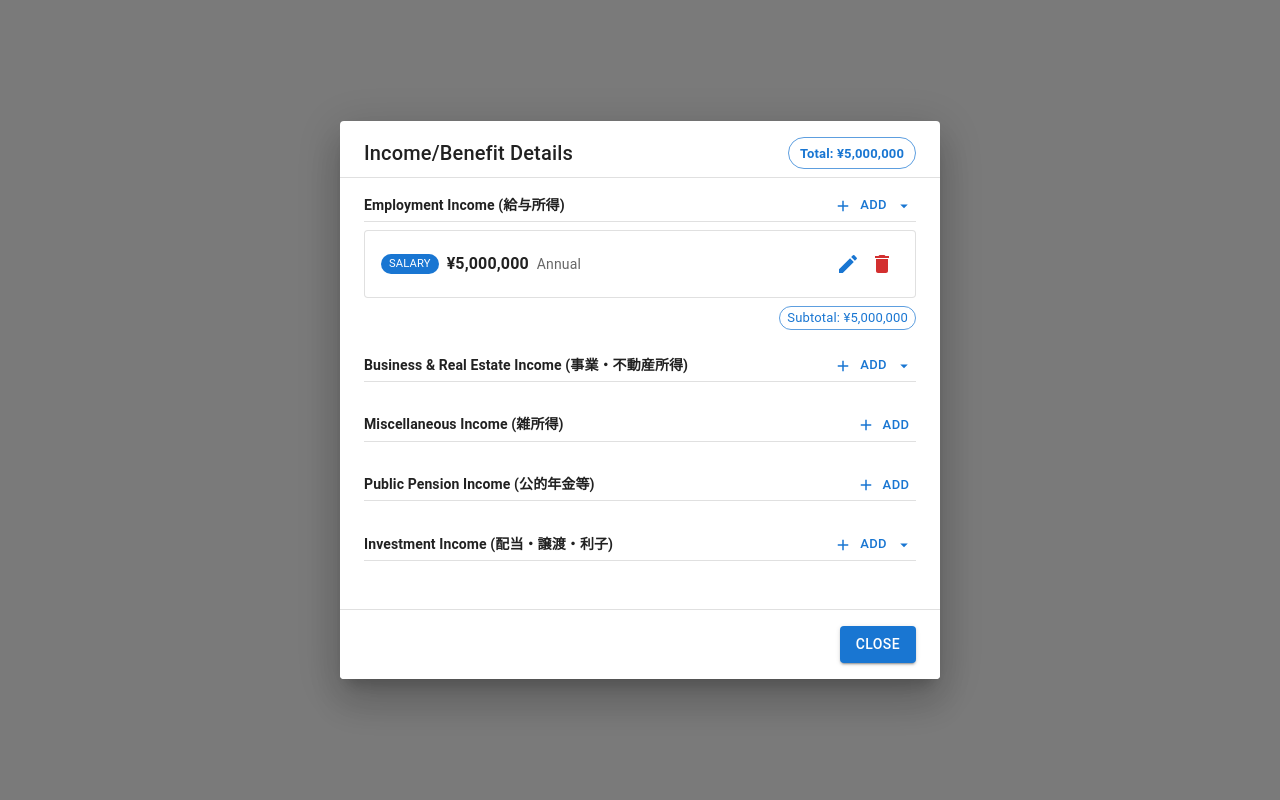
Test case: IncomeDetailsModal - Adding from each section › lists the types of a multi-type section in a menu and opens the form for the chosen one
Click the button with aria-label "add employment income". click: {"x": 874, "y": 206}
box: [831,190,916,221]
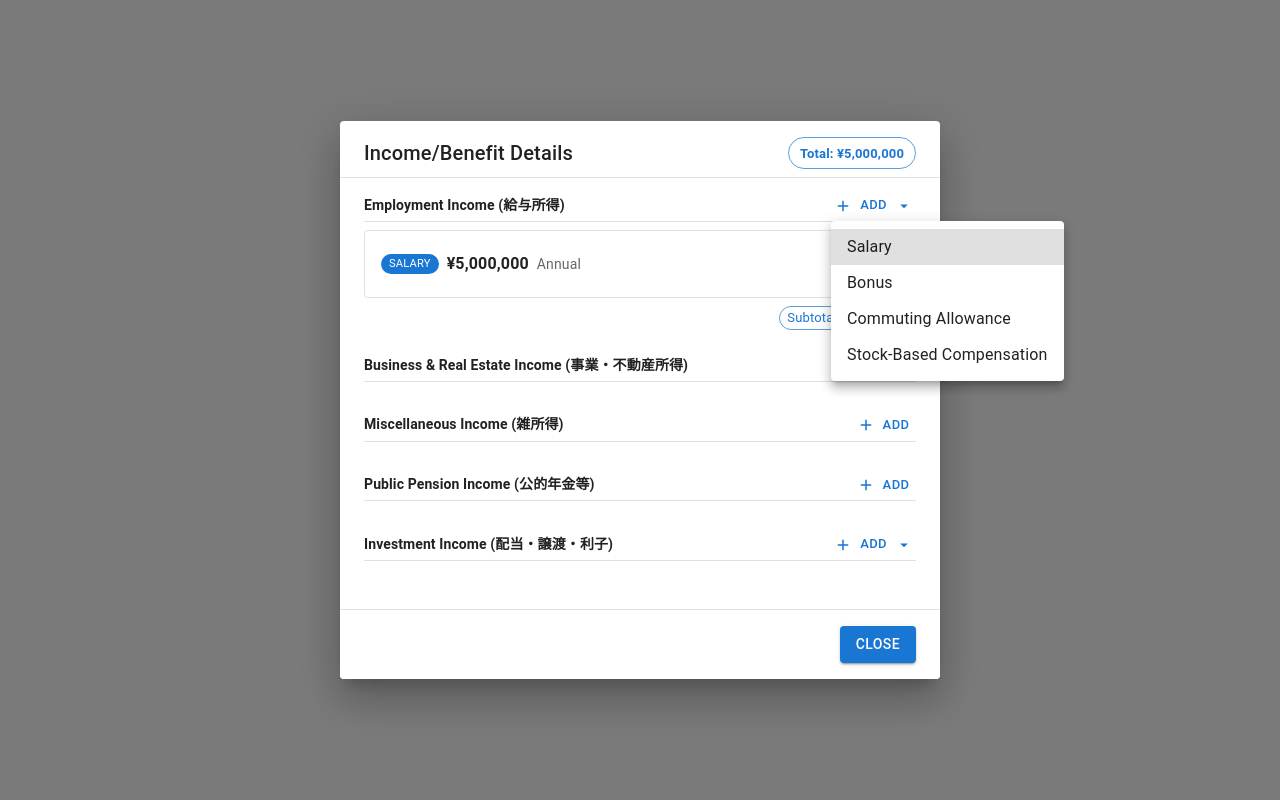
Check: the menu items read "Salary", "Bonus", "Commuting Allowance", "Stock-Based Compensation", in this order
Click the menu item "Bonus". click: {"x": 870, "y": 282}
box: [847,273,893,292]
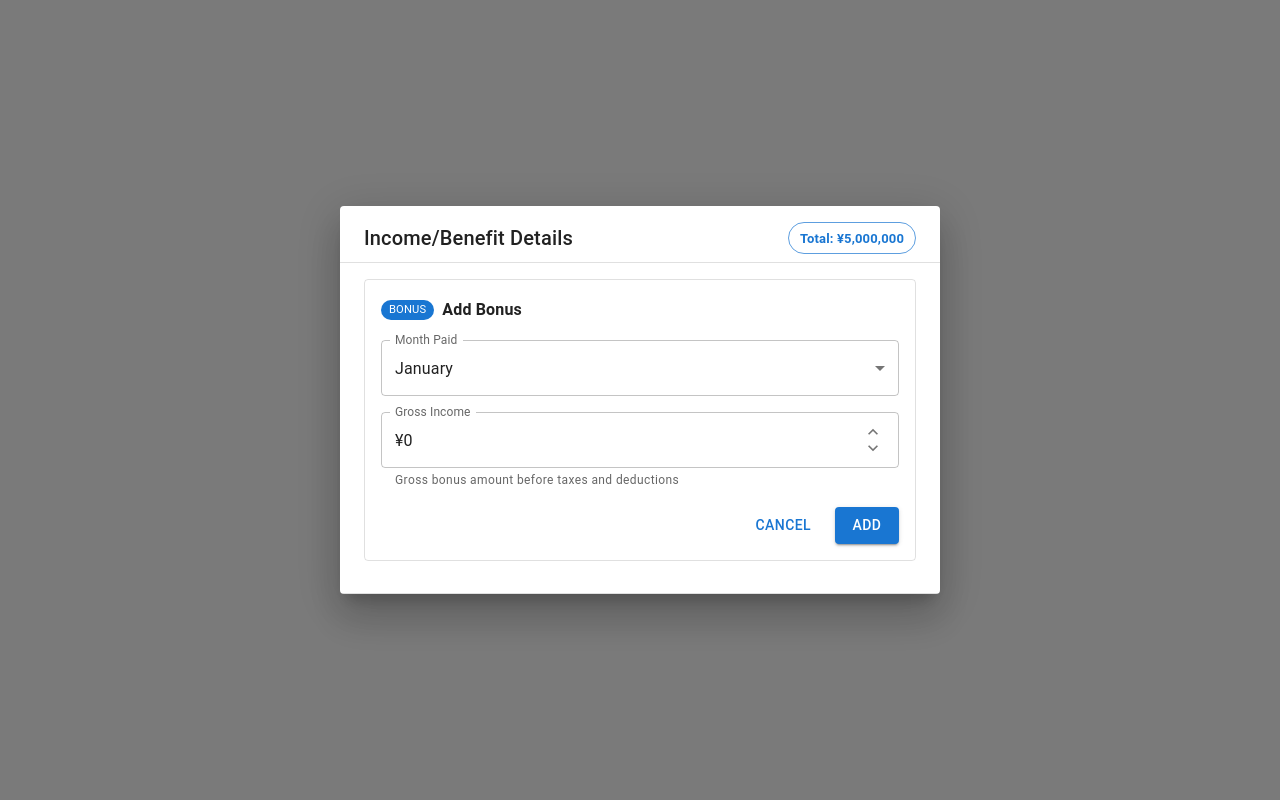
Check: the heading "Add Bonus" is shown, box [442,296,522,324]
Check: the menu is gone
